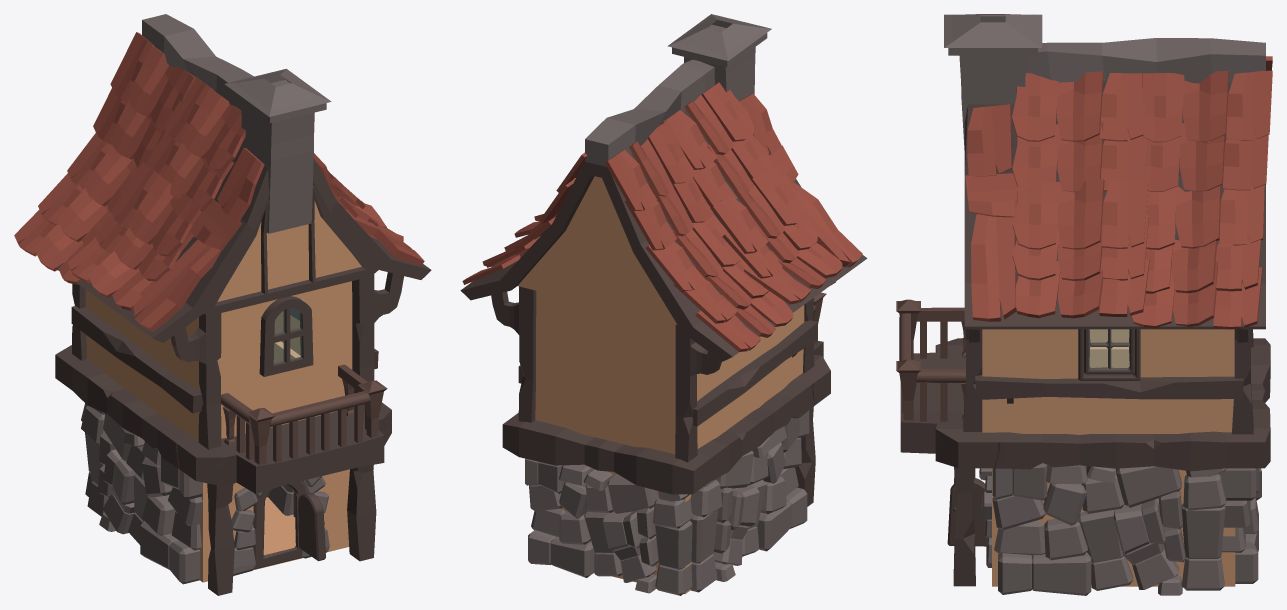
Rendered from FantasyMedivalBuilding3.fbx.
3 renders of one model, left to right at view 1: azimuth 30°, elevation 25°; view 2: azimuth 150°, elevation 25°; view 3: azimuth 270°, elevation 25°, orthographic. The views are drawn at different scales.
Visible parts, largest first — view 1: Roof Rocks.001, Wood Frame.001, Building_3, Side Rocks.001, Chimney, Front Grill.001, Roof.001, Roof.002, Windows.002, Door.002, Front Rocks; view 2: Roof Rocks.001, Building_3, Wood Frame.001, Back Rocks.001, Side Rocks.001, Roof.001, Roof.002, Chimney; view 3: Roof Rocks.001, Wood Frame.001, Side Rocks.001, Building_3, Roof.002, Chimney, Roof.001, Front Grill.001, Back Rocks.001, Windows.002, Door.002, Front Rocks.
Part boxes in pixels (left/top/right/bottom): Roof Rocks.001: left=14, top=32, right=424, bottom=331; Wood Frame.001: left=55, top=186, right=403, bottom=595; Building_3: left=85, top=201, right=361, bottom=582; Side Rocks.001: left=81, top=405, right=295, bottom=584; Chimney: left=224, top=68, right=331, bottom=233; Front Grill.001: left=221, top=364, right=387, bottom=464; Roof.001: left=57, top=145, right=431, bottom=342; Roof.002: left=142, top=14, right=253, bottom=110; Windows.002: left=259, top=296, right=313, bottom=376; Door.002: left=253, top=481, right=325, bottom=569; Front Rocks: left=231, top=476, right=329, bottom=575; Roof Rocks.001: left=462, top=82, right=862, bottom=351; Building_3: left=518, top=176, right=804, bottom=593; Wood Frame.001: left=491, top=282, right=835, bottom=506; Back Rocks.001: left=525, top=458, right=694, bottom=595; Side Rocks.001: left=690, top=410, right=809, bottom=592; Roof.001: left=460, top=110, right=867, bottom=361; Roof.002: left=585, top=59, right=714, bottom=166; Chimney: left=667, top=14, right=771, bottom=100; Roof Rocks.001: left=965, top=56, right=1272, bottom=329; Wood Frame.001: left=900, top=329, right=1270, bottom=586; Side Rocks.001: left=992, top=463, right=1226, bottom=595; Building_3: left=982, top=329, right=1235, bottom=586; Roof.002: left=1025, top=38, right=1265, bottom=83; Chimney: left=944, top=14, right=1042, bottom=149; Roof.001: left=964, top=80, right=1265, bottom=329; Front Grill.001: left=896, top=299, right=965, bottom=421; Back Rocks.001: left=1218, top=468, right=1261, bottom=583; Windows.002: left=1078, top=329, right=1140, bottom=380; Door.002: left=947, top=477, right=987, bottom=546; Front Rocks: left=979, top=468, right=991, bottom=567.
Bounding box in the file's own units: 3944 × 6266 × 4037.
